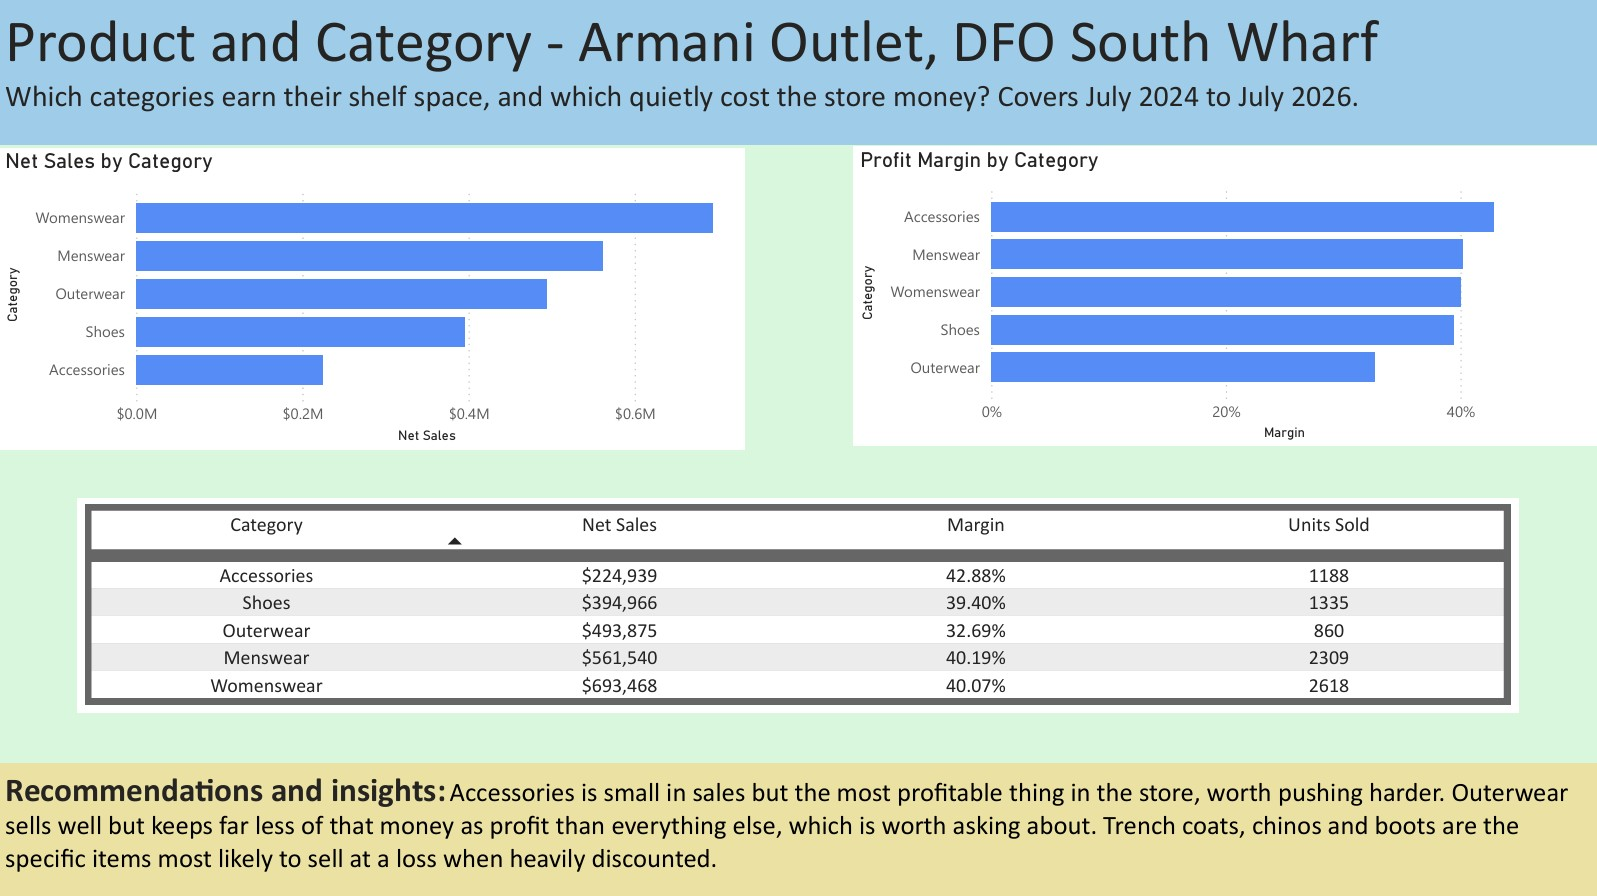

The page's visual inventory and layout, read from the dashboard file:
{"tool":"powerbi","page":{"name":"Product and Category","canvas":[1280,720],"ordinal":1},"visuals":[{"type":"textbox","box":[0,0,1280.3,119.3],"z":0},{"type":"clusteredBarChart","fields":{"Y":["Measure.Net Sales"],"Category":["Product.Category"]},"box":[0,120.9,596.5,240.7],"z":1000},{"type":"clusteredBarChart","title":"Profit Margin by Category","fields":{"Y":["Measure.Margin"],"Category":["Product.Category"]},"box":[683.7,119.8,596.5,240.7],"z":2000},{"type":"tableEx","fields":{"Values":["Product.Category","Measure.Net Sales","Measure.Margin","Measure.Units Sold"]},"box":[62.8,401.2,1153.5,172.1],"z":3000},{"type":"textbox","box":[0,613.1,1280.3,106.9],"z":4000}]}

Visuals, with their boxes in screenshot pixels (x1, y1, x2, y2), scaled from the page's 1280x720 canvas onto the 1597x896 screenshot:
textbox: x1=0 y1=0 x2=1596 y2=148
clusteredBarChart - Measure.Net Sales x Product.Category: x1=0 y1=150 x2=744 y2=450
"Profit Margin by Category" clusteredBarChart: x1=853 y1=149 x2=1596 y2=449
tableEx - Product.Category x Measure.Net Sales: x1=78 y1=499 x2=1518 y2=713
textbox: x1=0 y1=763 x2=1596 y2=895
